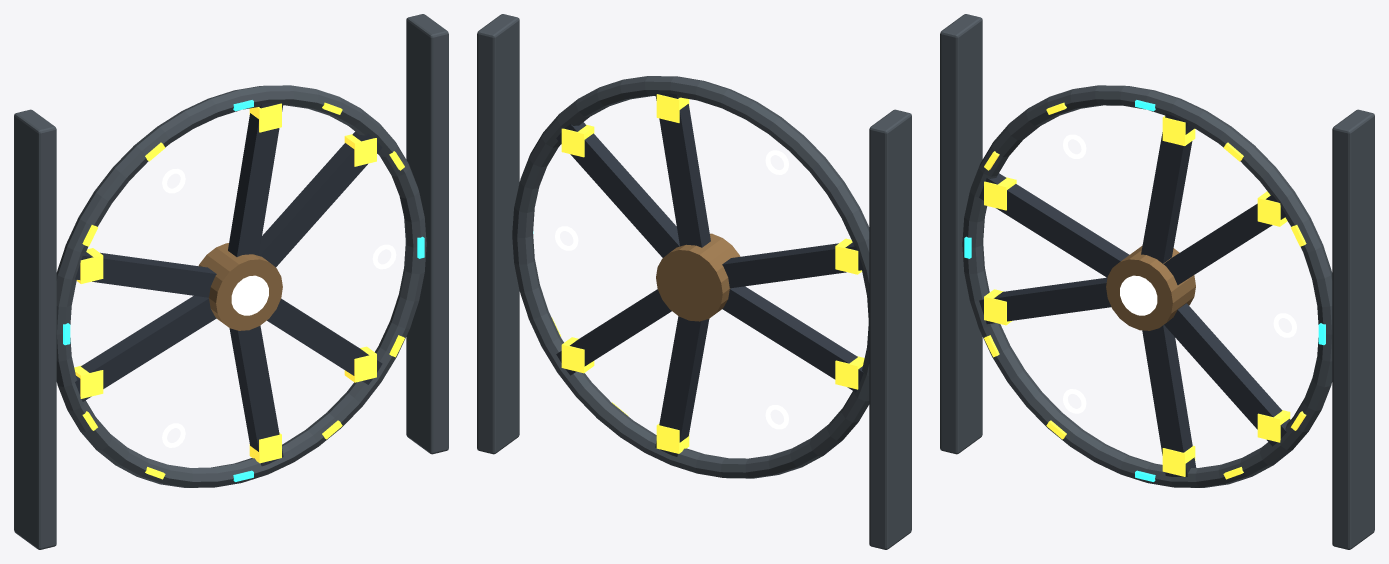
The model's file is 04_carousel_ring.glb.
3 views of the same model, side by side, from view 1: azimuth 30°, elevation 25°; view 2: azimuth 150°, elevation 25°; view 3: azimuth 330°, elevation 25° (orthographic).
Parts seen in each view (by area): view 1: carousel_rim_nocol, carousel_support_-1, carousel_support_1, carousel_spoke_1, carousel_spoke_5, carousel_spoke_2, carousel_hub, carousel_spoke_7, carousel_spoke_4, carousel_spoke_8, carousel_hub_signal, carousel_light_8_nocol (+5 smaller); view 2: carousel_rim_nocol, carousel_support_-1, carousel_support_1, carousel_hub, carousel_spoke_1, carousel_spoke_5, carousel_spoke_2, carousel_spoke_7, carousel_spoke_4, carousel_spoke_8, carousel_light_1_nocol, carousel_light_8_nocol (+4 smaller); view 3: carousel_rim_nocol, carousel_support_1, carousel_support_-1, carousel_spoke_8, carousel_spoke_4, carousel_spoke_7, carousel_spoke_2, carousel_hub, carousel_spoke_5, carousel_spoke_1, carousel_hub_signal, carousel_light_8_nocol (+5 smaller).
Boxes of the visible parts, x1,y1,x2,y2 form: carousel_rim_nocol: [56, 85, 426, 487]; carousel_support_-1: [14, 109, 56, 549]; carousel_support_1: [406, 14, 448, 454]; carousel_spoke_1: [259, 131, 382, 267]; carousel_spoke_5: [75, 296, 216, 401]; carousel_spoke_2: [228, 103, 283, 256]; carousel_hub: [198, 243, 282, 330]; carousel_spoke_7: [229, 325, 283, 466]; carousel_spoke_4: [75, 252, 216, 297]; carousel_spoke_8: [267, 298, 382, 384]; carousel_hub_signal: [231, 275, 268, 315]; carousel_light_8_nocol: [344, 346, 376, 382]; carousel_rim_nocol: [512, 76, 869, 478]; carousel_support_-1: [869, 109, 911, 549]; carousel_support_1: [477, 14, 519, 454]; carousel_hub: [656, 233, 739, 321]; carousel_spoke_1: [556, 122, 679, 257]; carousel_spoke_5: [722, 286, 863, 392]; carousel_spoke_2: [655, 93, 710, 247]; carousel_spoke_7: [655, 316, 709, 456]; carousel_spoke_4: [722, 242, 863, 288]; carousel_spoke_8: [556, 289, 671, 375]; carousel_light_1_nocol: [561, 124, 594, 157]; carousel_light_8_nocol: [561, 337, 594, 373]; carousel_rim_nocol: [962, 85, 1332, 487]; carousel_support_1: [1332, 109, 1374, 549]; carousel_support_-1: [940, 14, 982, 454]; carousel_spoke_8: [1164, 303, 1290, 446]; carousel_spoke_4: [979, 173, 1129, 277]; carousel_spoke_7: [1142, 325, 1196, 476]; carousel_spoke_2: [1141, 113, 1194, 263]; carousel_hub: [1106, 245, 1195, 330]; carousel_spoke_5: [979, 277, 1111, 324]; carousel_spoke_1: [1163, 195, 1286, 284]; carousel_hub_signal: [1120, 275, 1157, 315]; carousel_light_8_nocol: [1257, 410, 1290, 442].
Size of the model in its own units: 18.44 by 18 by 2.52.
